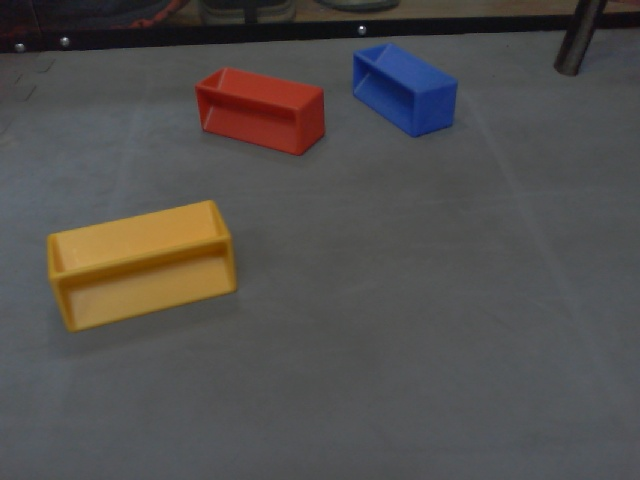BlueSample: (350, 40, 460, 140)
RedSample: (195, 66, 326, 158)
YellowSample: (44, 197, 237, 340)
